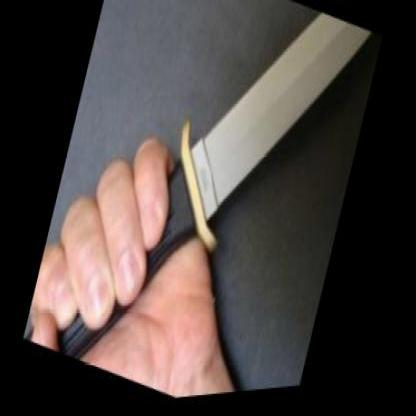knife: (64, 0, 385, 406)
